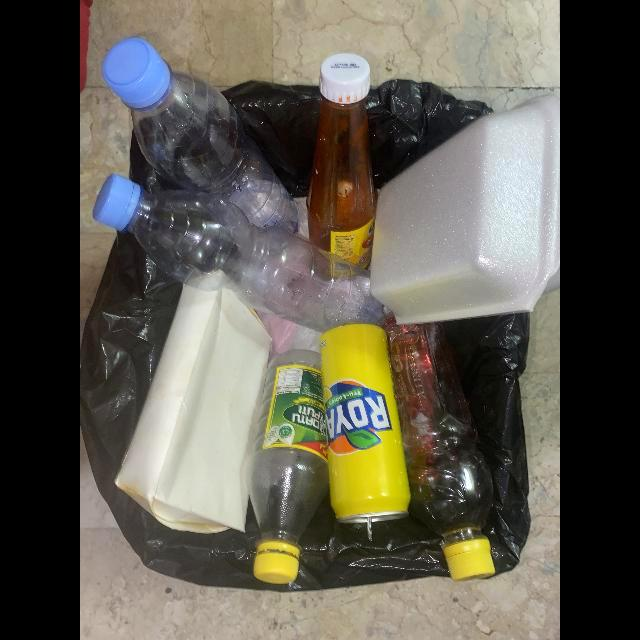aluminum: (318, 324, 411, 544)
cardboard: (113, 283, 271, 534)
glass_bottle: (306, 52, 377, 268)
plastic_bottle: (92, 171, 389, 334), (102, 36, 298, 231), (384, 309, 495, 581), (241, 352, 330, 587)
